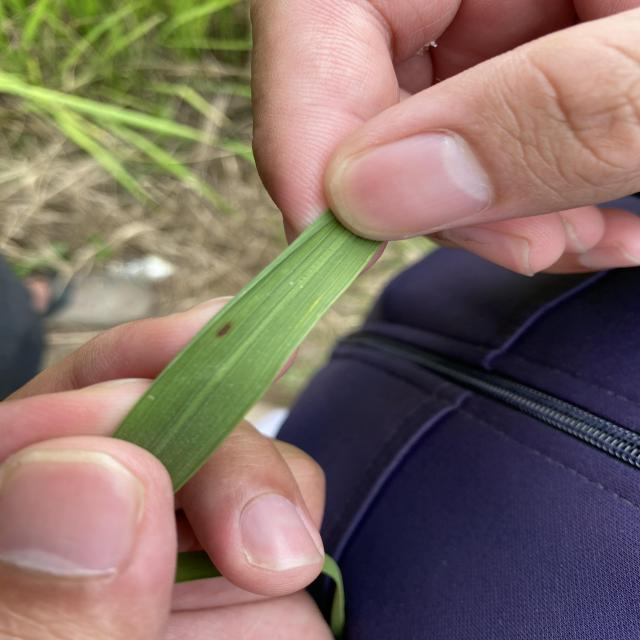Dom nau: (215, 320, 236, 339)
